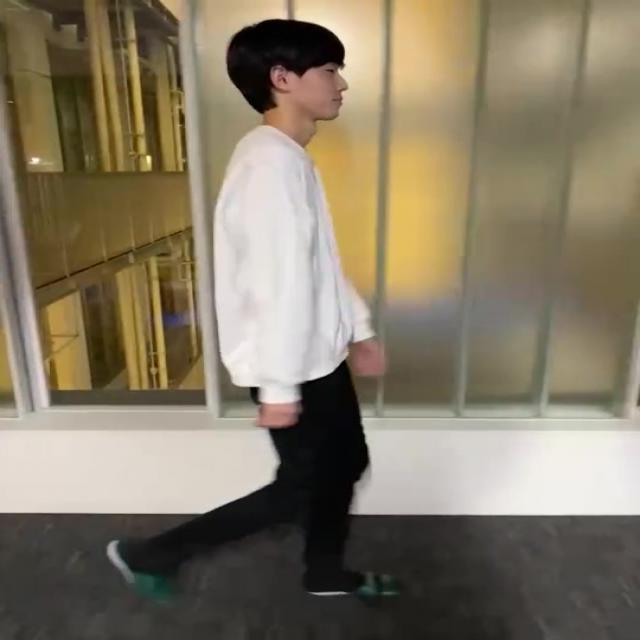direk: (103, 16, 413, 614)
